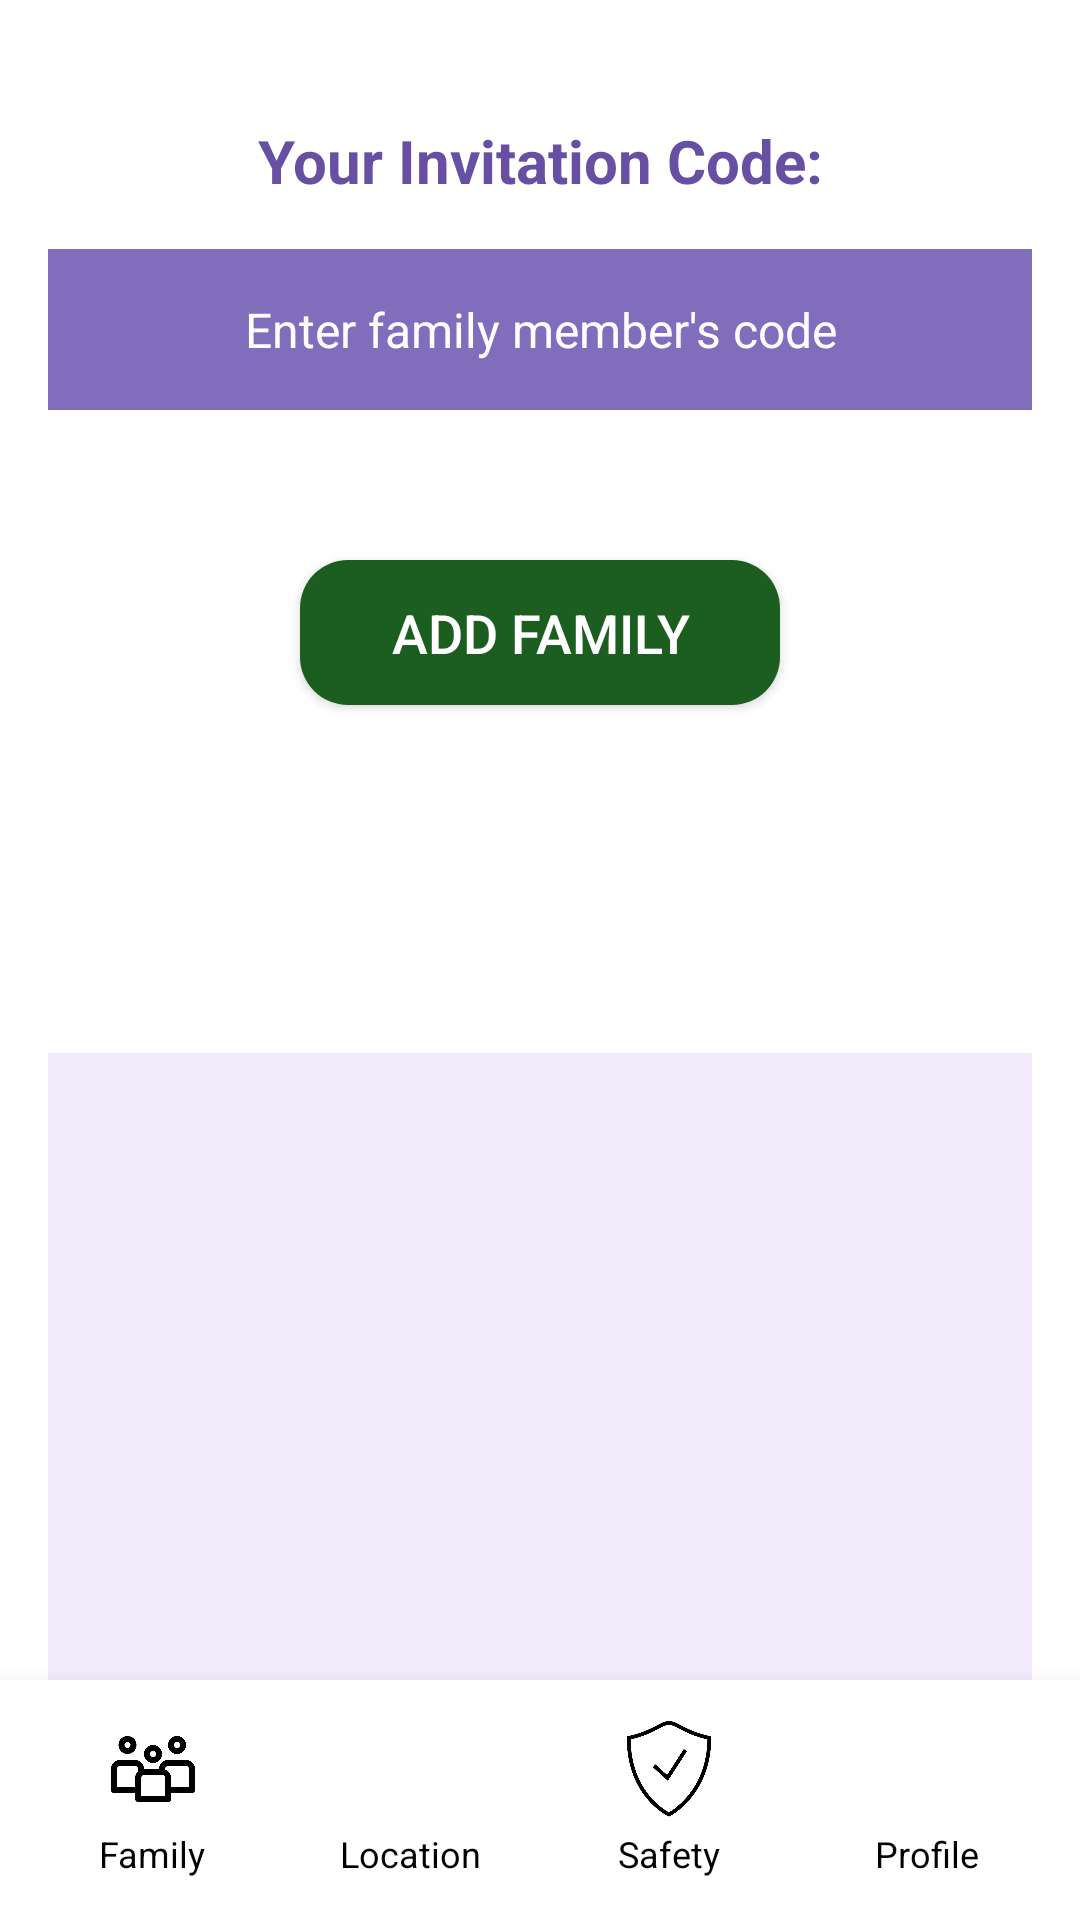

Icons on this 1080w x 1920h Android screen, each with the point to tap as point (x, y):
users group members team: point (153, 1769)
